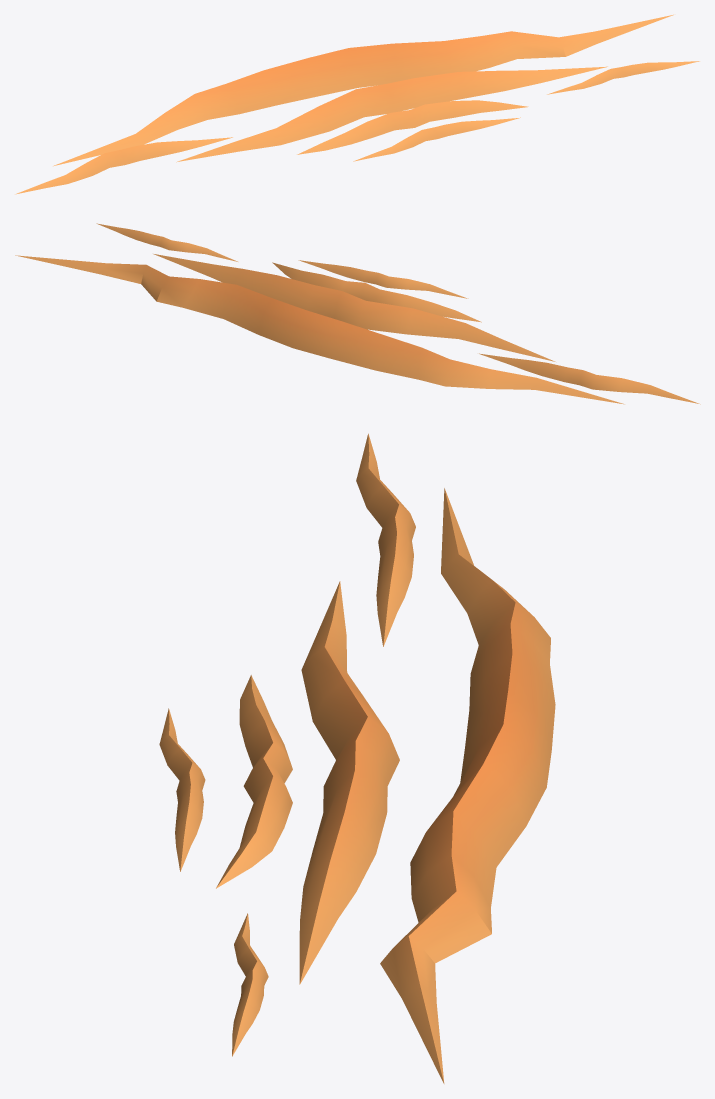
Rendered from Ground_Dune_A_02.fbx.
3 views of the same model, one above another, from view 1: azimuth 30°, elevation 25°; view 2: azimuth 150°, elevation 25°; view 3: azimuth 270°, elevation 25° (orthographic). The views are drawn at different scales.
Visible parts, largest first — view 1: Ground_Dune_A_02; view 2: Ground_Dune_A_02; view 3: Ground_Dune_A_02.
Part boxes in pixels (<box>): Ground_Dune_A_02: <box>15,14,699,194</box>; Ground_Dune_A_02: <box>15,223,700,404</box>; Ground_Dune_A_02: <box>159,433,555,1083</box>.
Bounding box in the file's own units: 623 × 27.66 × 160.
